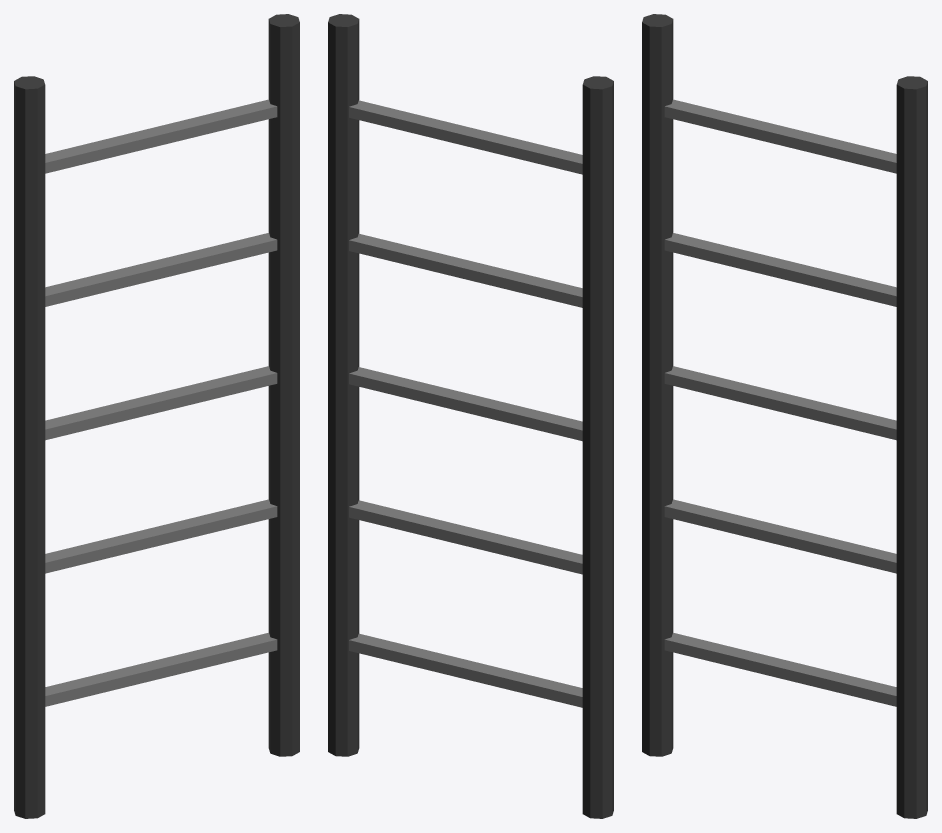
File: ladder.fbx
3 views of the same model, side by side, from view 1: azimuth 30°, elevation 25°; view 2: azimuth 150°, elevation 25°; view 3: azimuth 330°, elevation 25° (orthographic).
Visible parts, largest first — view 1: ladder; view 2: ladder; view 3: ladder.
Part boxes in pixels (x1,y1,x2,y2): ladder: (14, 14, 299, 818); ladder: (328, 14, 613, 818); ladder: (642, 14, 927, 818).
Bounding box in the file's own units: 111 × 274 × 10.98.
Materials: 1 (1 with a texture image).
